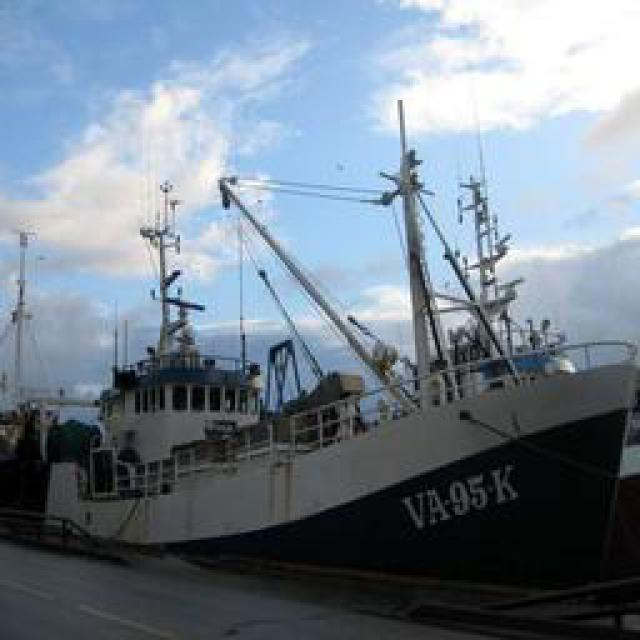Ship: (41, 91, 634, 576)
